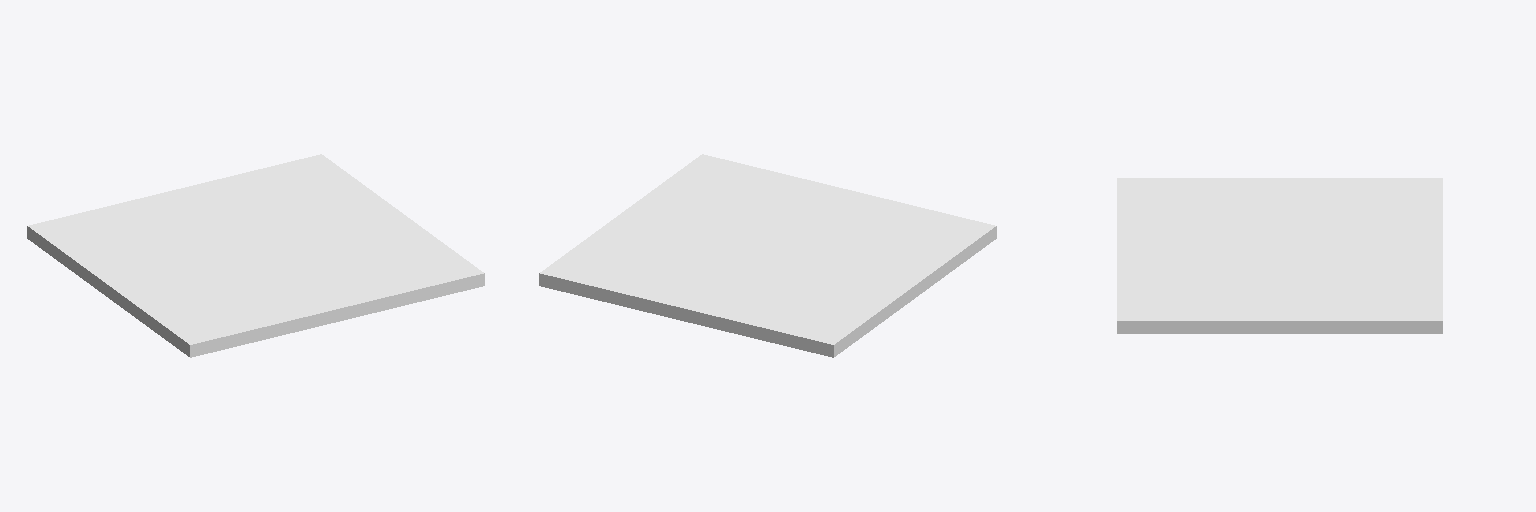
Rendered from lodowiec.obj.
The picture shows the model from 3 angles: view 1: azimuth 30°, elevation 25°; view 2: azimuth 150°, elevation 25°; view 3: azimuth 270°, elevation 25°; orthographic projection.
Parts seen in each view (by area): view 1: object 1; view 2: object 1; view 3: object 1.
Part boxes in pixels (x1,y1,x2,y2): object 1: (27,154,484,357); object 1: (539,154,996,357); object 1: (1117,178,1442,333).
Bounding box in the file's own units: 2.4 × 0.1 × 2.3.